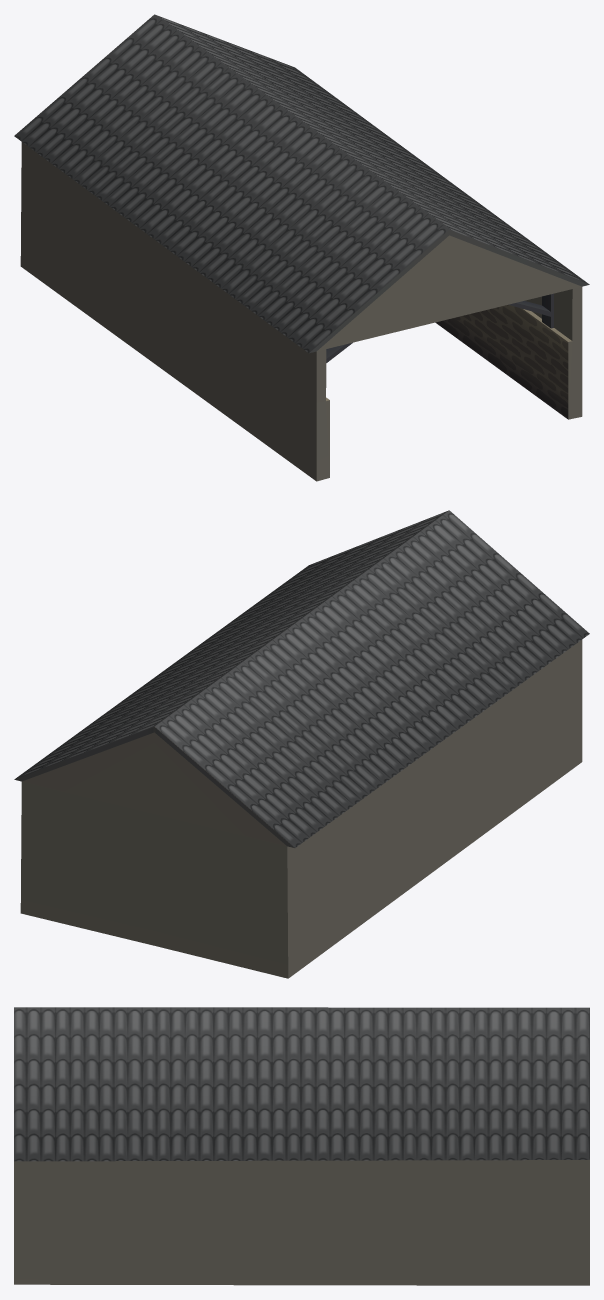
File: Hangar.fbx
3 renders of one model, top to bottom at view 1: azimuth 30°, elevation 25°; view 2: azimuth 150°, elevation 25°; view 3: azimuth 270°, elevation 25°, orthographic. The views are drawn at different scales.
Visible parts, largest first — view 1: Exterieur; view 2: Exterieur; view 3: Exterieur.
Boxes of the visible parts, x1=… form: Exterieur: x1=14, y1=14, x2=589, y2=481; Exterieur: x1=14, y1=510, x2=589, y2=978; Exterieur: x1=14, y1=1007, x2=589, y2=1285.
Bounding box in the file's own units: 680 × 509 × 1236.
